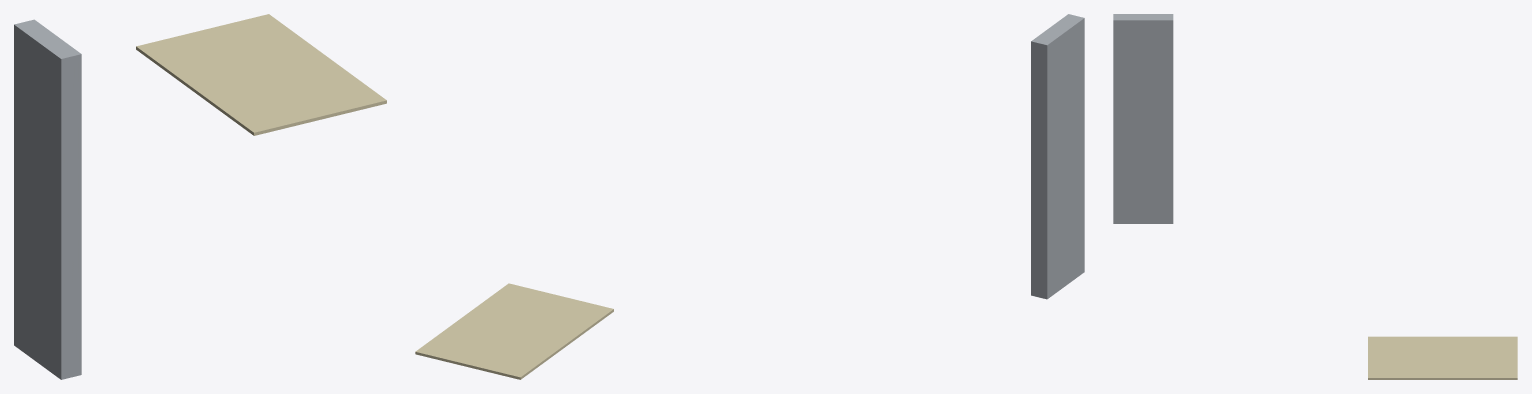
The model's file is peek-corridor.gltf.
3 renders of one model, left to right at view 1: azimuth 30°, elevation 25°; view 2: azimuth 150°, elevation 25°; view 3: azimuth 270°, elevation 25°, orthographic. The views are drawn at different scales.
Visible parts, largest first — view 1: cover-wall, exposed-rest-lane; view 2: cover-wall, exposed-rest-lane; view 3: cover-wall, exposed-rest-lane.
Part boxes in pixels (x1,y1,x2,y2): cover-wall: (14,19,81,379); exposed-rest-lane: (136,14,386,135); cover-wall: (1031,14,1084,299); exposed-rest-lane: (415,283,613,379); cover-wall: (1113,14,1173,223); exposed-rest-lane: (1368,336,1517,379).
Size of what is drawn, in the model's own units: 5.15 by 3 by 5.4.
